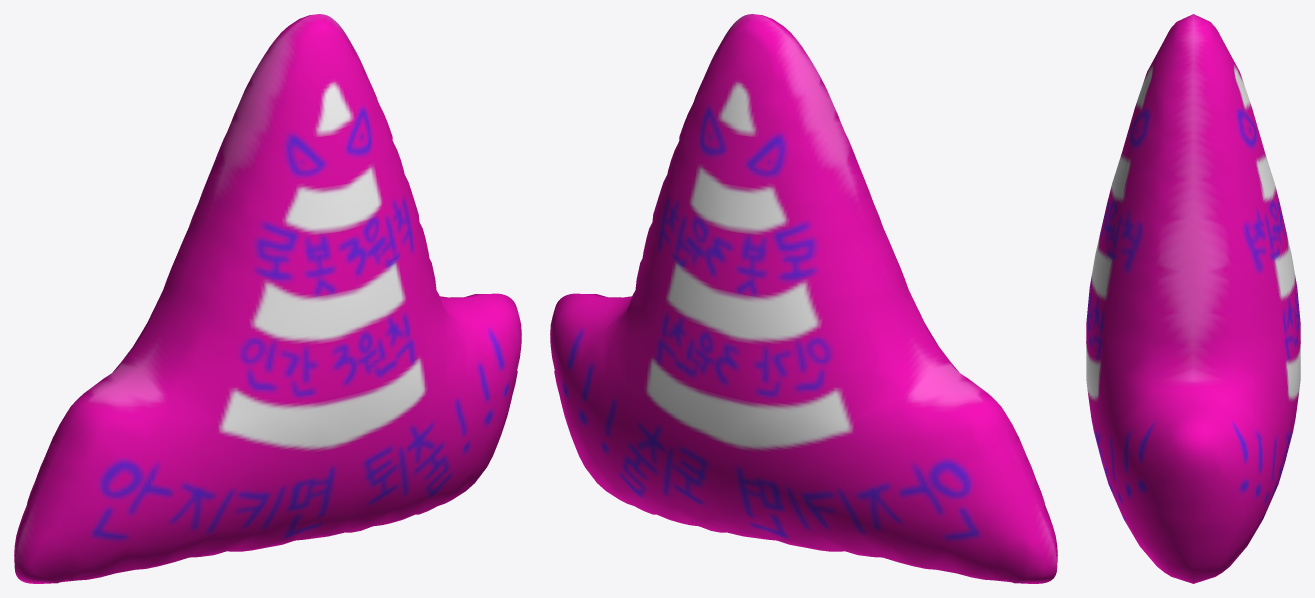
File: pinkCone.glb
3 renders of one model, left to right at view 1: azimuth 30°, elevation 25°; view 2: azimuth 150°, elevation 25°; view 3: azimuth 270°, elevation 25°, orthographic.
Parts seen in each view (by area): view 1: Mesh_0.002; view 2: Mesh_0.002; view 3: Mesh_0.002.
Boxes of the visible parts, x1=… form: Mesh_0.002: x1=14, y1=14, x2=521, y2=583; Mesh_0.002: x1=550, y1=14, x2=1057, y2=583; Mesh_0.002: x1=1086, y1=14, x2=1300, y2=583.
Size of the model in its own units: 99.13 by 97.64 by 37.28.
Materials: 1 (1 with a texture image).
